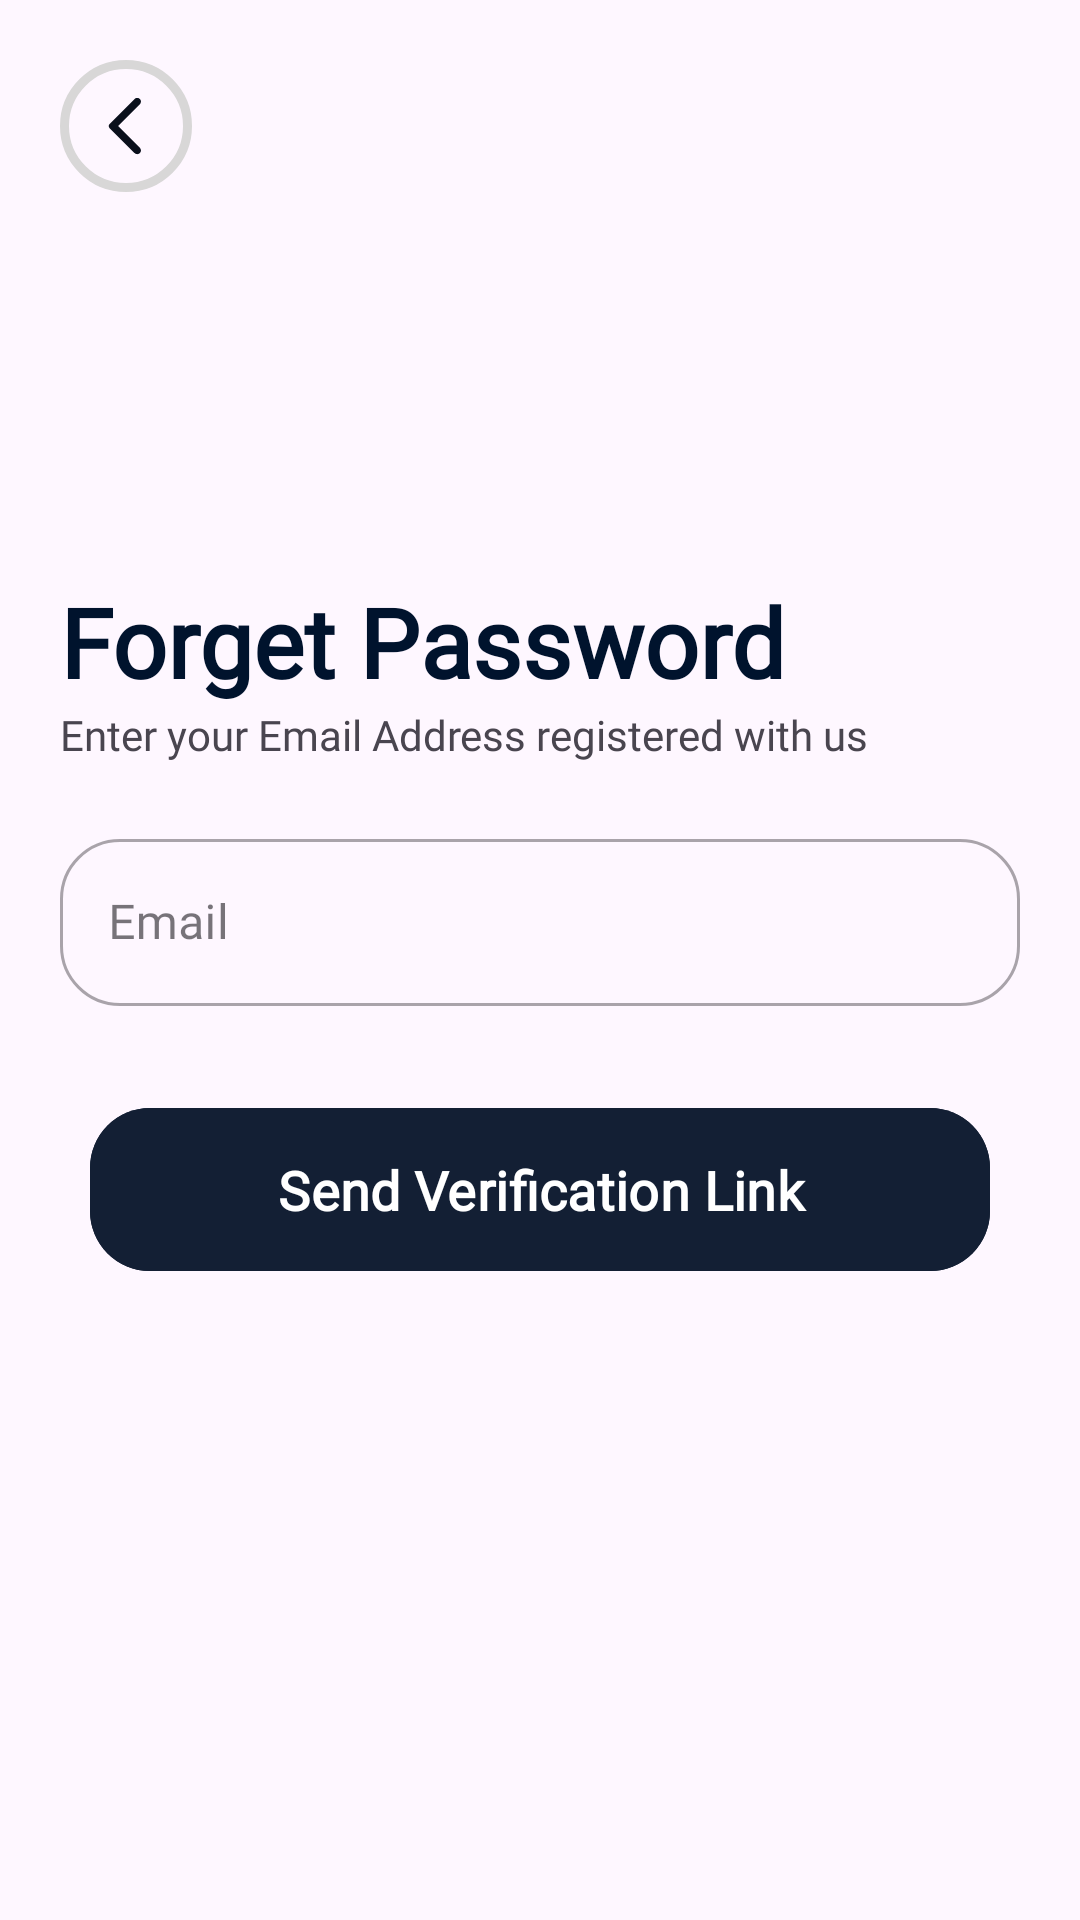

Named icons in this screenshot (1080w x 1920h) and their bounding boxes, region(x1, y1, x2, y2):
back arrow: region(60, 60, 192, 192)
